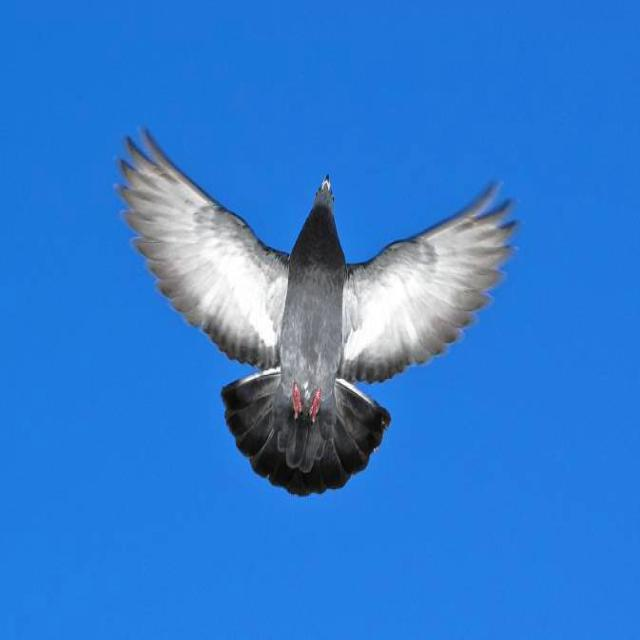pigeon: (120, 132, 515, 494)
